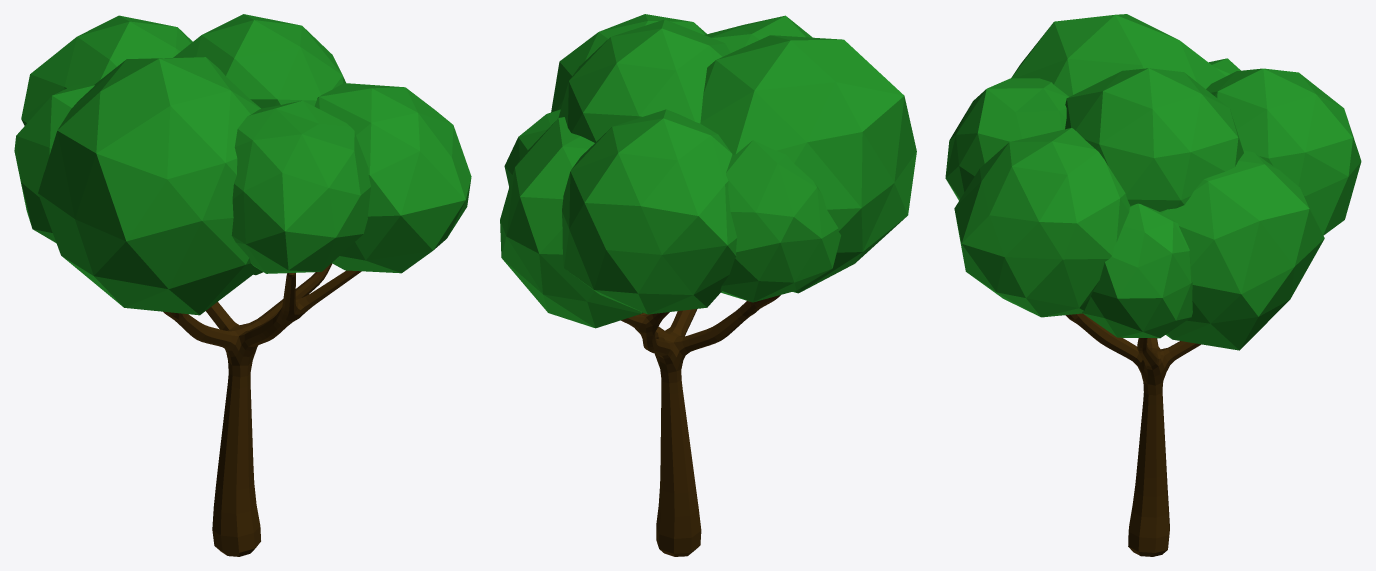
The model's file is Baum.fbx.
3 renders of one model, left to right at view 1: azimuth 30°, elevation 25°; view 2: azimuth 150°, elevation 25°; view 3: azimuth 270°, elevation 25°, orthographic. The views are drawn at different scales.
Visible parts, largest first — view 1: Plane; view 2: Plane; view 3: Plane.
Boxes of the visible parts, x1,y1,x2,y2 form: Plane: [14, 14, 471, 556]; Plane: [500, 14, 916, 556]; Plane: [945, 14, 1361, 556].
Bounding box in the file's own units: 416 × 581 × 444.
Materials: 1 (1 with a texture image).
